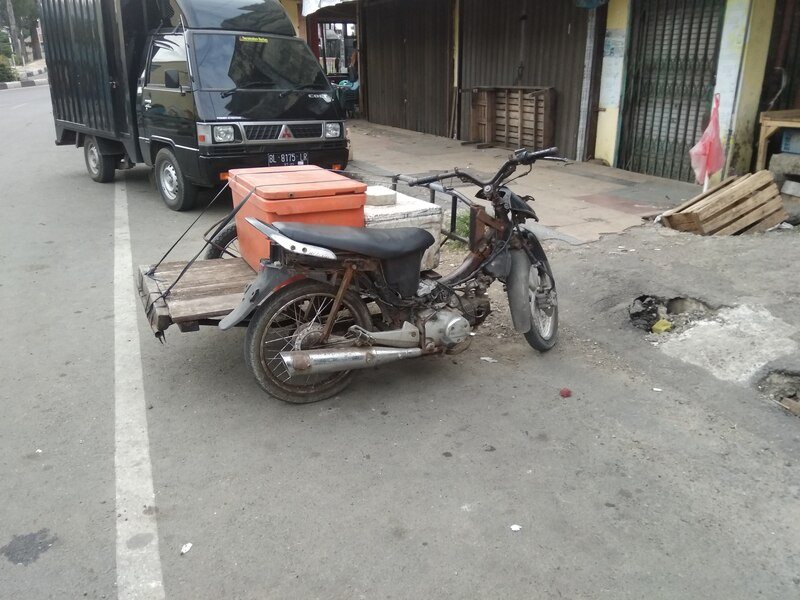becak barang: (131, 140, 565, 409)
car: (35, 1, 364, 217)
